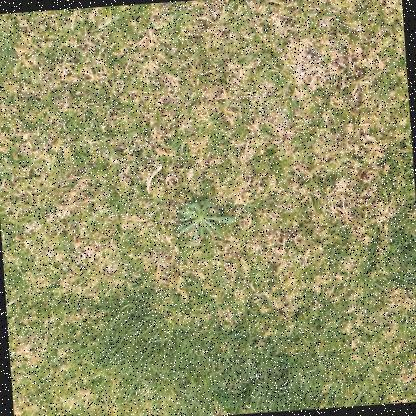Weeds: (177, 199, 238, 243)
